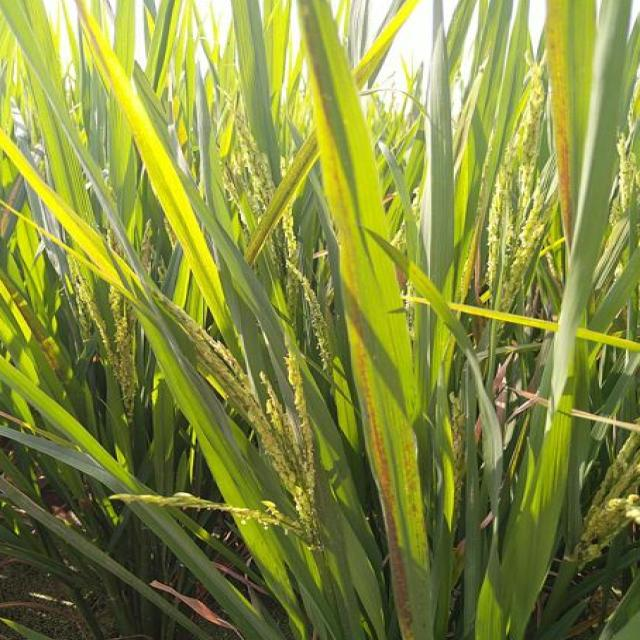Leaf Streak: (296, 0, 415, 640), (244, 131, 317, 266), (0, 271, 65, 375), (352, 0, 424, 93), (546, 0, 572, 252), (399, 420, 420, 530)
